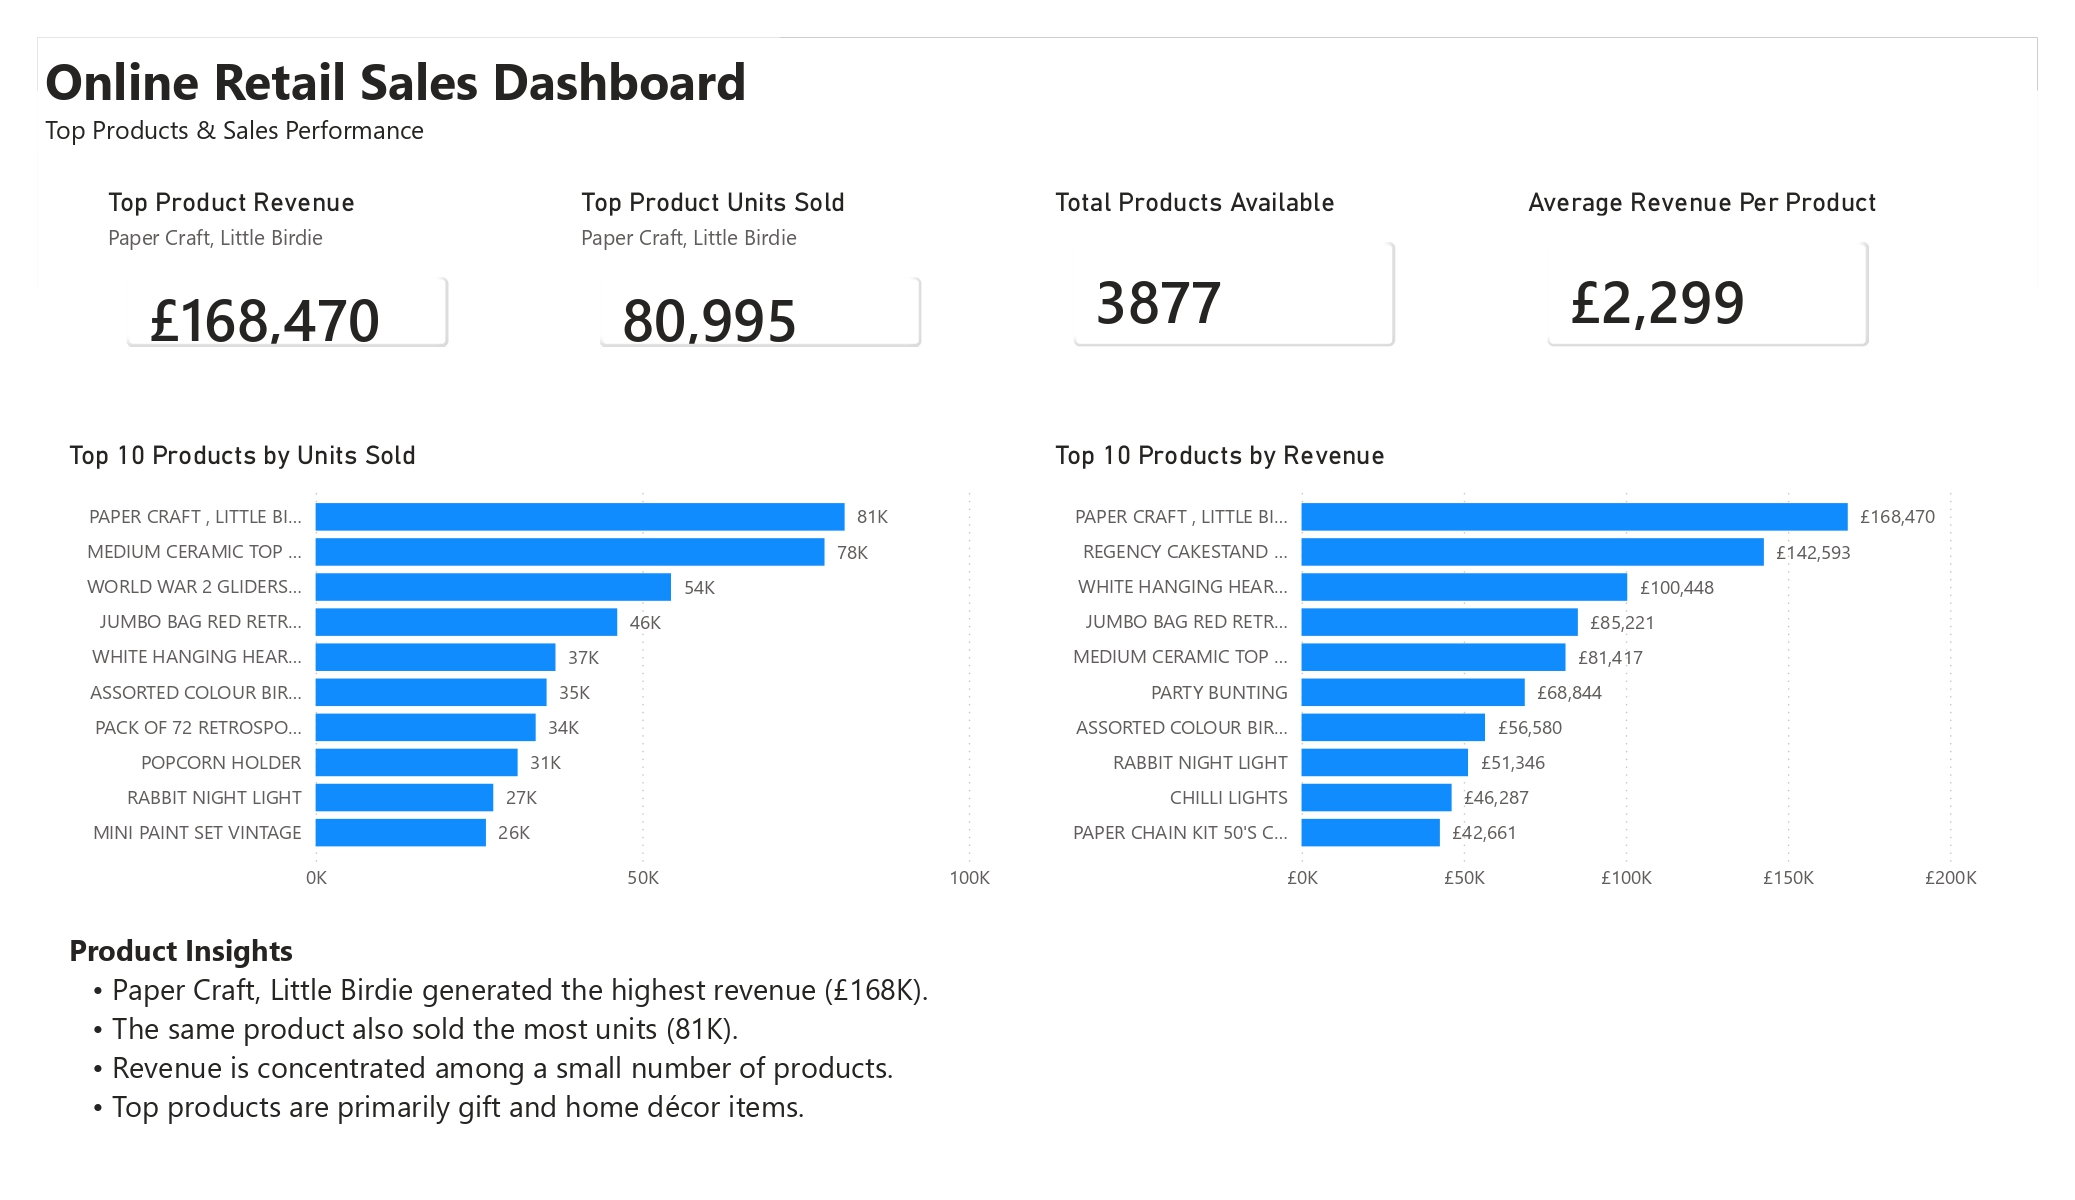

This screenshot's page, from the dashboard's own definition file:
{"tool":"powerbi","page":{"name":"Product Analytics","canvas":[1280,720],"ordinal":2},"visuals":[{"type":"textbox","box":[0,0,475.2,74.7],"z":0},{"type":"cardVisual","title":"Top Product Revenue","fields":{"Data":["Sum(public vw_product_kpis.top_product_revenue)"]},"box":[40,95,240,120],"z":1000},{"type":"cardVisual","title":"Top Product Units Sold","fields":{"Data":["Sum(public vw_product_kpis.top_product_units_sold)"]},"box":[343,95,240,120],"z":2000},{"type":"cardVisual","title":"Total Products Available","fields":{"Data":["Sum(public vw_product_kpis.total_products)"]},"box":[646,95,240,120],"z":3000},{"type":"cardVisual","title":"Average Revenue Per Product","fields":{"Data":["Sum(public vw_product_kpis.avg_revenue_per_product)"]},"box":[949,95,240,120],"z":4000},{"type":"clusteredBarChart","title":"Top 10 Products by Revenue","fields":{"Y":["Sum(public vw_product_analysis (2).Revenue)"],"Category":["public vw_product_analysis (2).Description"]},"box":[646,257,600,299],"z":5000},{"type":"clusteredBarChart","title":"Top 10 Products by Units Sold","fields":{"Category":["public vw_product_analysis (2).Description"],"Y":["Sum(public vw_product_analysis (2).Units Sold)"]},"box":[15,257,600,299],"z":6000},{"type":"textbox","box":[15,566,600,154],"z":6001}]}

Visuals, with their boxes on the page's 1280x720 design canvas (x1, y1, x2, y2). These are canvas units, not pixel positions in the 2075x1200 screenshot, which may show the page scaled, cropped or inside an application window:
textbox: 0 0 475 75
"Top Product Revenue" cardVisual: 40 95 280 215
"Top Product Units Sold" cardVisual: 343 95 583 215
"Total Products Available" cardVisual: 646 95 886 215
"Average Revenue Per Product" cardVisual: 949 95 1189 215
"Top 10 Products by Revenue" clusteredBarChart: 646 257 1246 556
"Top 10 Products by Units Sold" clusteredBarChart: 15 257 615 556
textbox: 15 566 615 720
